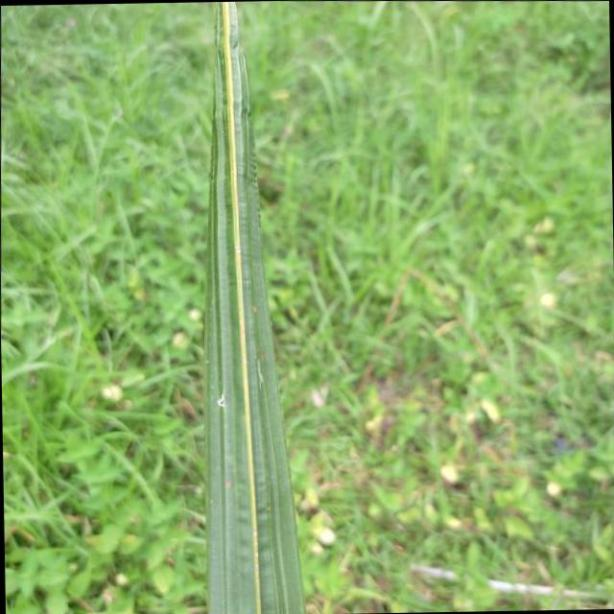Boron: (203, 0, 304, 614)
